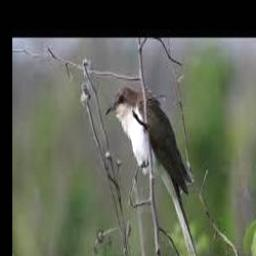Cuckoo: (105, 85, 203, 256)
